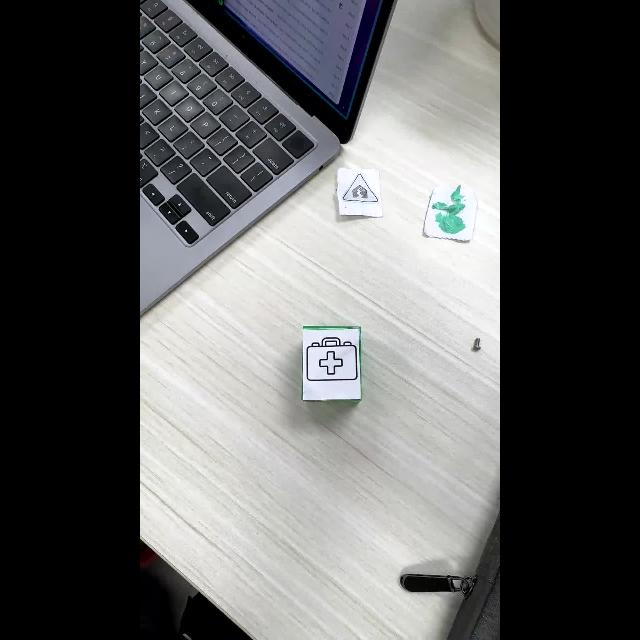Medkit: (305, 335, 359, 385)
